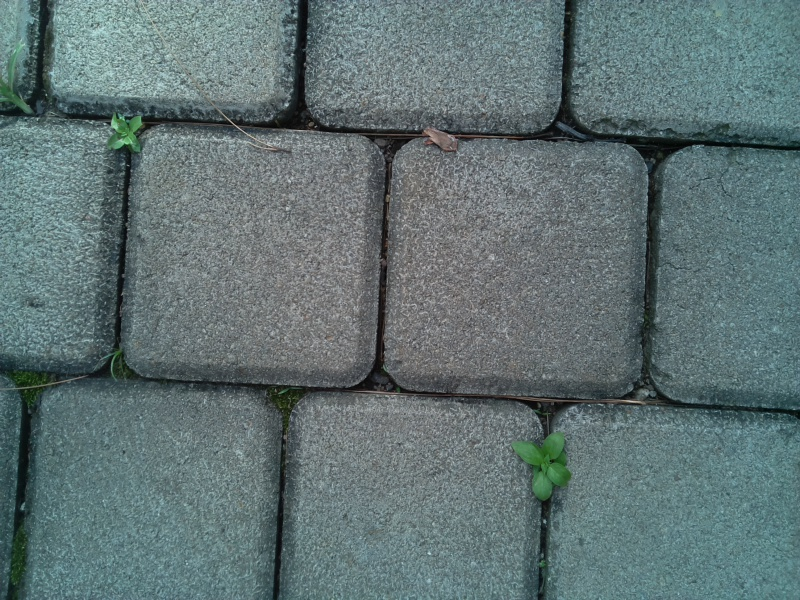Weed: (505, 427, 580, 510), (1, 42, 49, 130), (98, 105, 154, 168), (95, 338, 136, 382)
